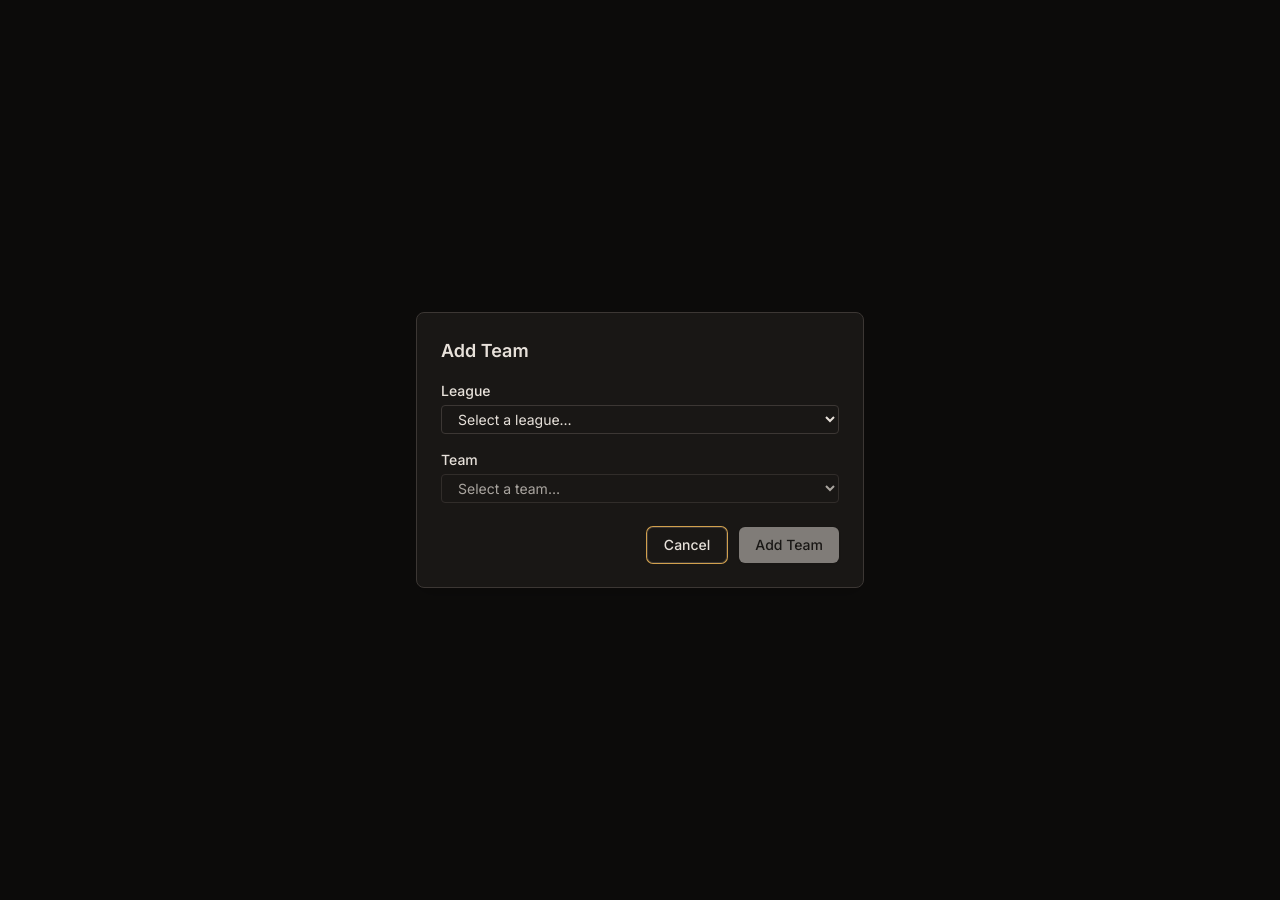
Test case: AddTeamDialog › shows error when team fetch fails after league selection
Select "AL Catfish Hunter" in the dropdown labelled "League" at x=640, y=420, box [441,405,839,434]
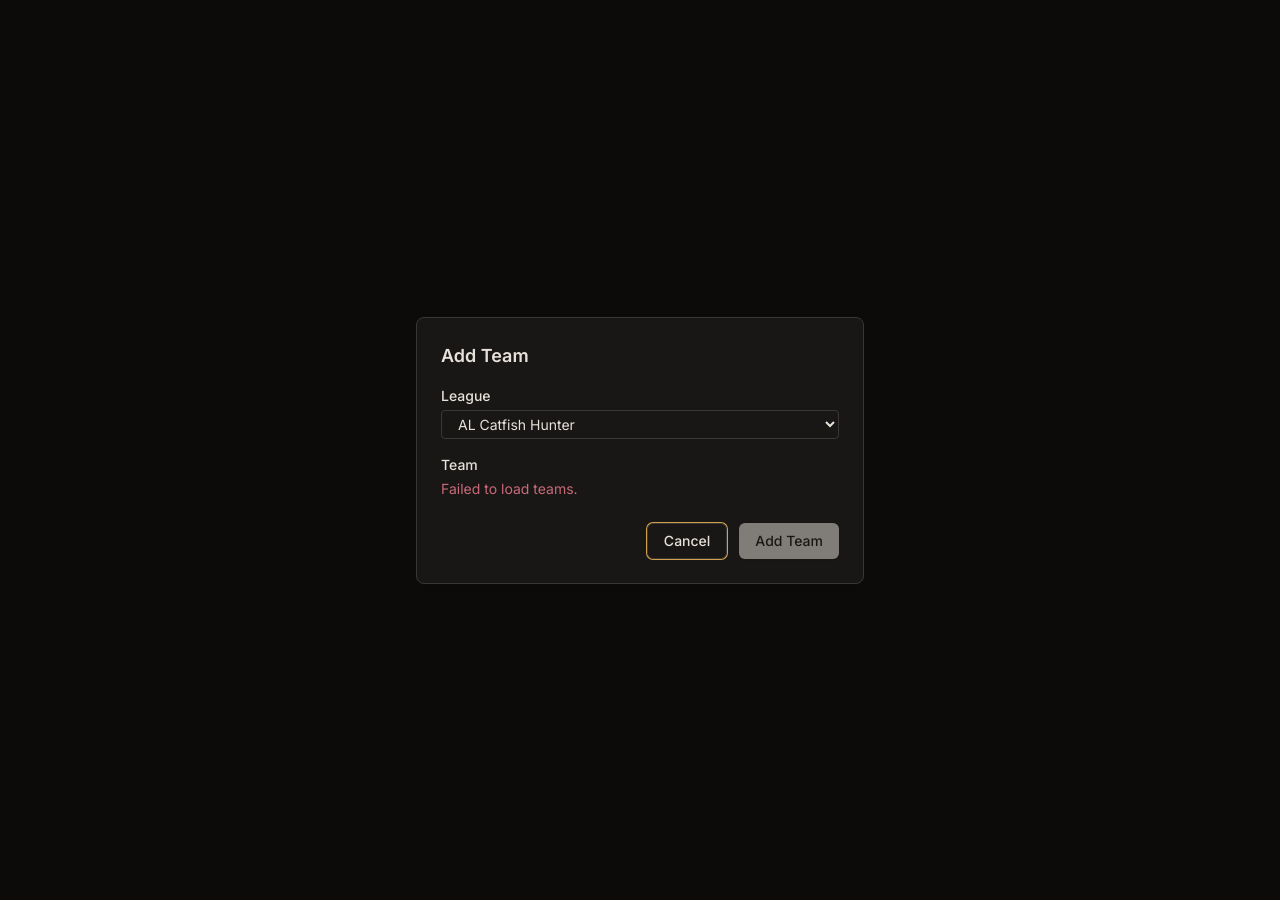
expect the text "Failed to load teams." is shown: met, box [441,480,578,496]
